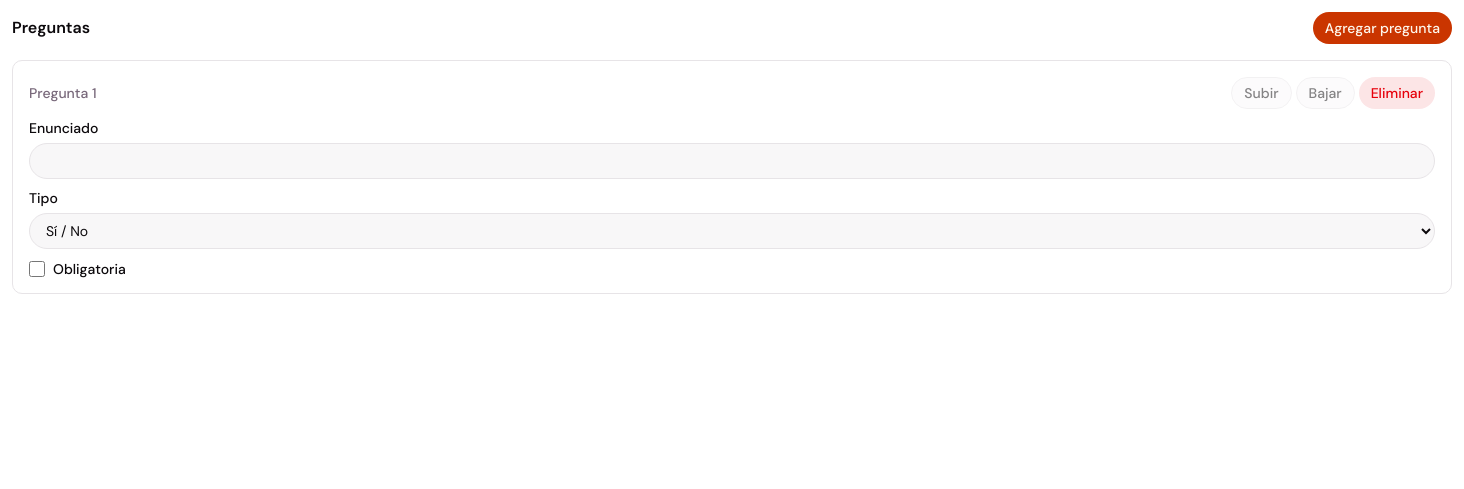
Scenario: QuestionBuilder — 11 configuraciones de tipo › single_choice y multiple_choice exponen opciones; multiple añade cotas de selección
Select "Opción única" in the dropdown labelled "Tipo" at (732, 231), box [29,213,1435,249]
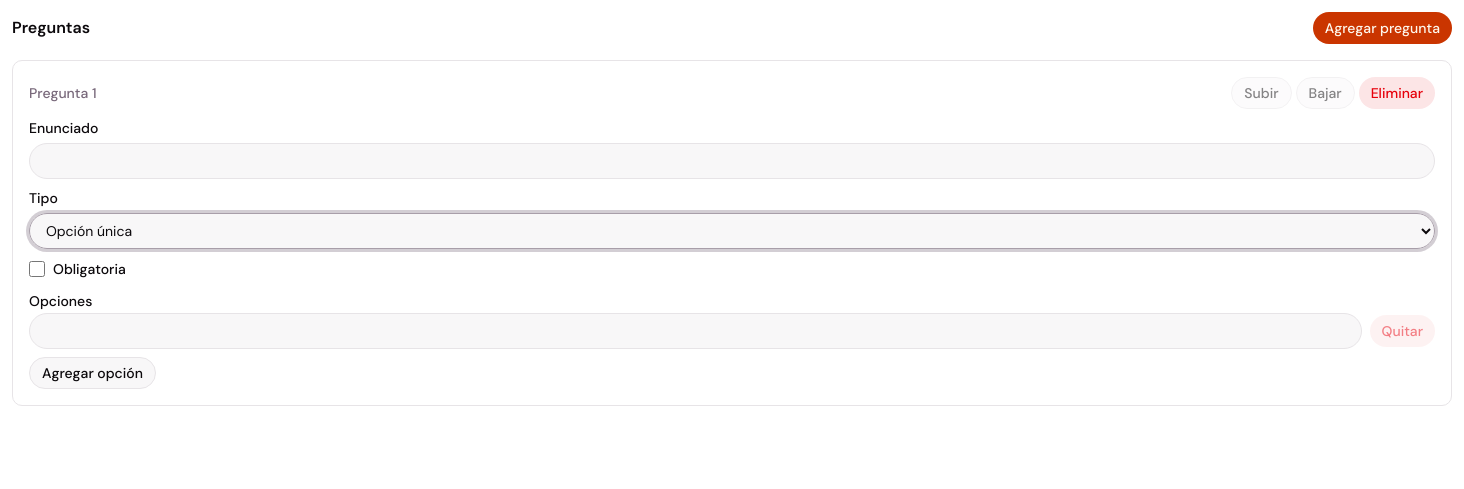
Expected: the field labelled "Mínimo seleccionable" is not shown
Result: the element "Opciones" is shown at [29,289,1435,389]
Result: the button "Agregar opción" is shown at [29,357,156,389]
Select "Opción múltiple" in the dropdown labelled "Tipo" at (732, 231), box [29,213,1435,249]
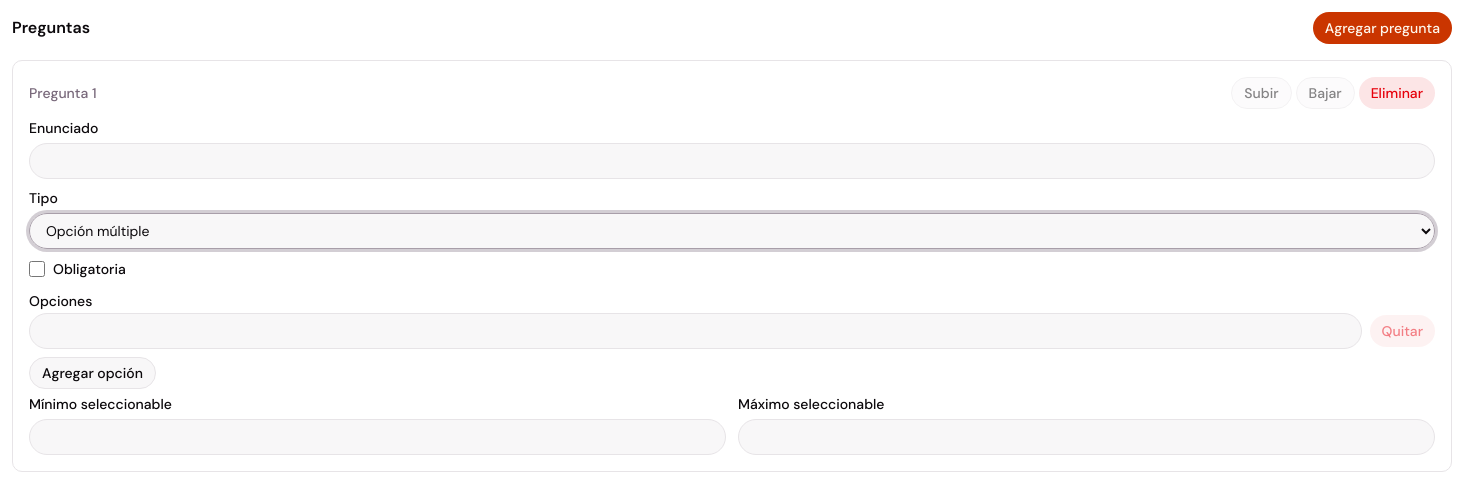
Result: the element "Opciones" is shown at [29,289,1435,455]
Result: the number field labelled "Mínimo seleccionable" is shown at [29,419,726,455]
Result: the number field labelled "Máximo seleccionable" is shown at [738,419,1435,455]
